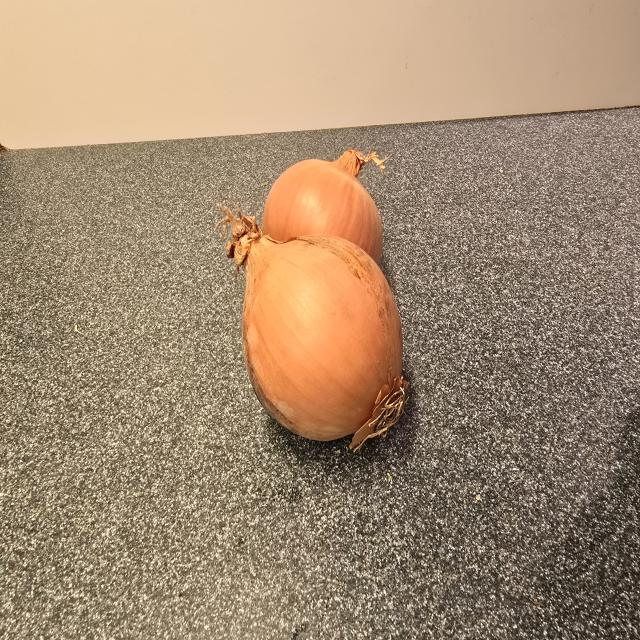Onion: (242, 235, 406, 441), (263, 151, 382, 262)
